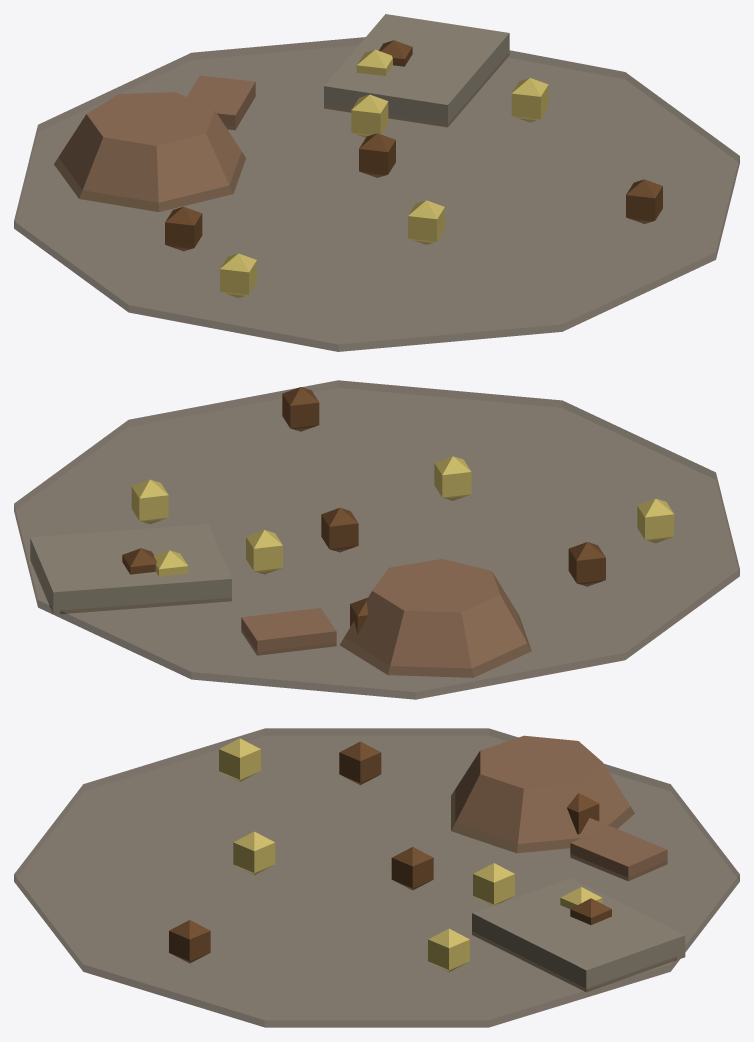
File: prop_camp_trace.glb
3 renders of one model, top to bottom at view 1: azimuth 30°, elevation 25°; view 2: azimuth 150°, elevation 25°; view 3: azimuth 270°, elevation 25°, orthographic. The views are drawn at different scales.
Visible parts, largest first — view 1: prop_camp_trace; view 2: prop_camp_trace; view 3: prop_camp_trace.
Part boxes in pixels (x1=…): prop_camp_trace: x1=14, y1=14, x2=739, y2=351; prop_camp_trace: x1=14, y1=380, x2=739, y2=699; prop_camp_trace: x1=14, y1=728, x2=739, y2=1027.
Size of the model in its own units: 0.856 by 0.07 by 0.9.
